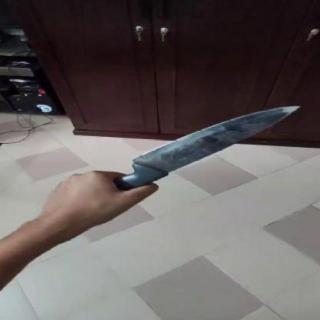knife: (128, 96, 304, 194)
